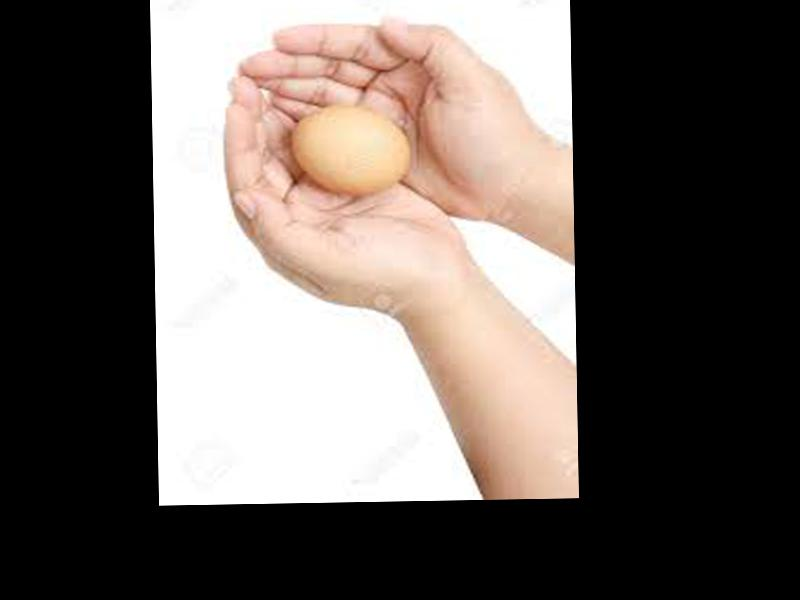Eggs: (294, 106, 408, 196)
